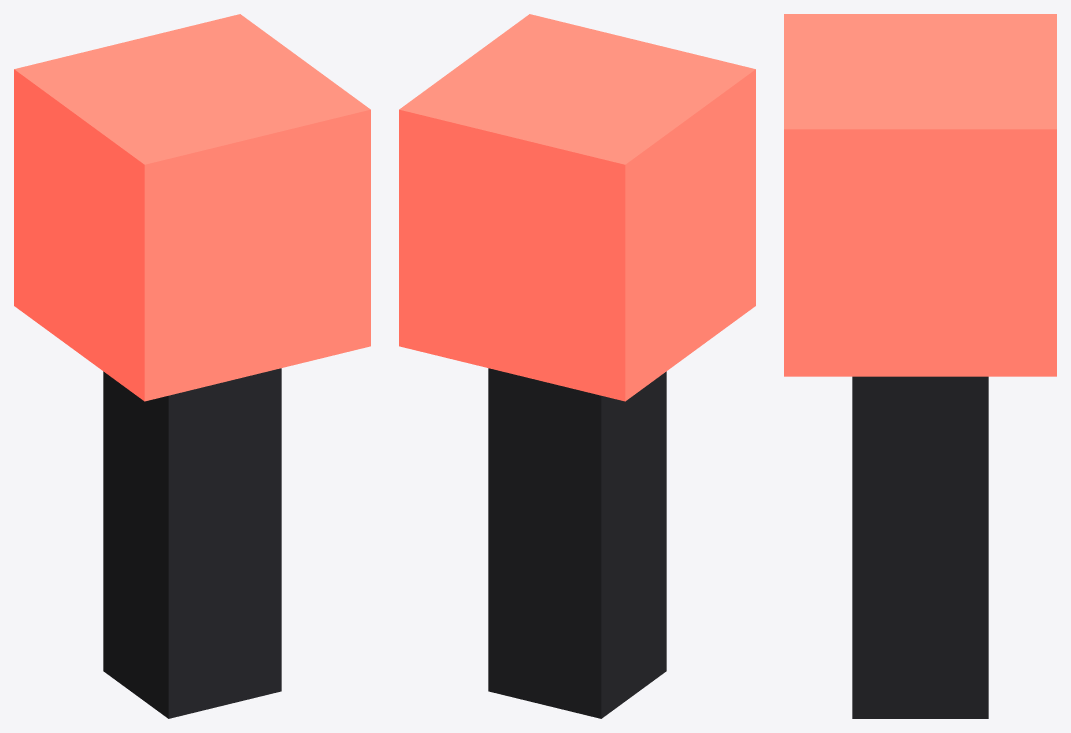
Rendered from beacon.glb.
The picture shows the model from 3 angles, left to right: view 1: azimuth 30°, elevation 25°; view 2: azimuth 150°, elevation 25°; view 3: azimuth 270°, elevation 25°; orthographic projection. The views are drawn at different scales.
Visible parts, largest first — view 1: beacon; view 2: beacon; view 3: beacon.
Part boxes in pixels (x1,y1,x2,y2): beacon: [14, 14, 370, 718]; beacon: [399, 14, 755, 718]; beacon: [784, 14, 1056, 718].
Size of the model in its own units: 0.12 by 0.3 by 0.12.
